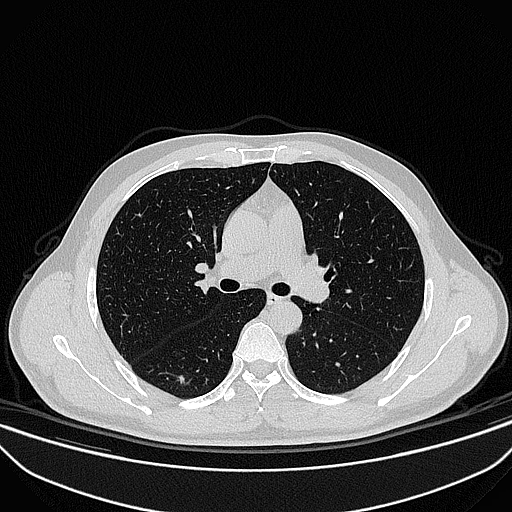nodule: (178, 375, 184, 383)
